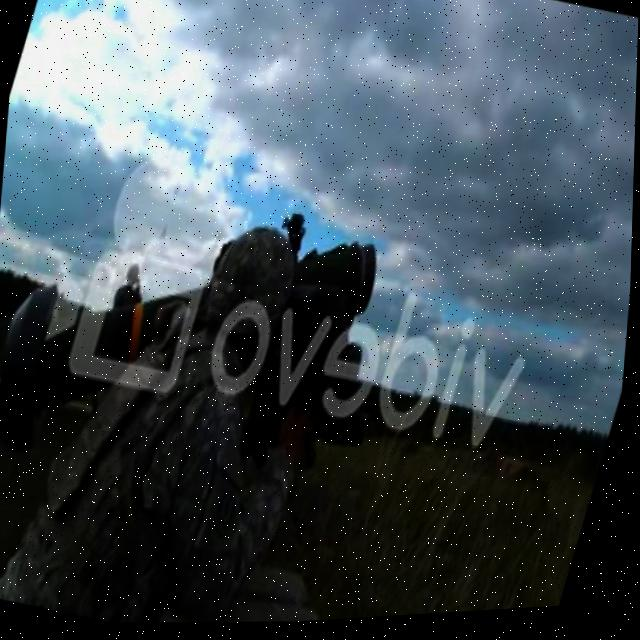rocket: (0, 159, 385, 509)
